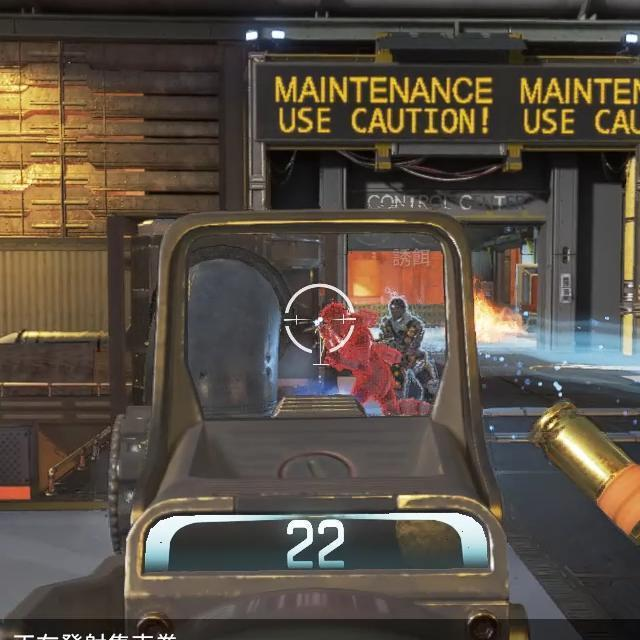avatar: (319, 300, 403, 418), (377, 296, 428, 374)
